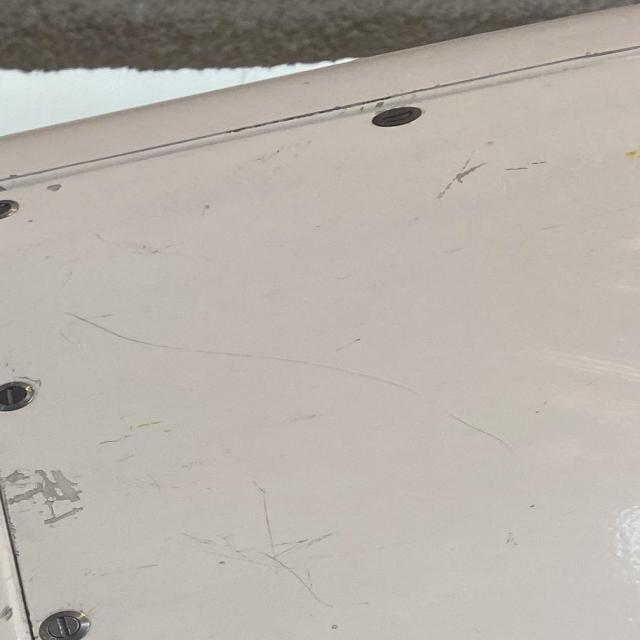Paint-off: (2, 467, 84, 523), (427, 138, 500, 195), (47, 179, 63, 189)
